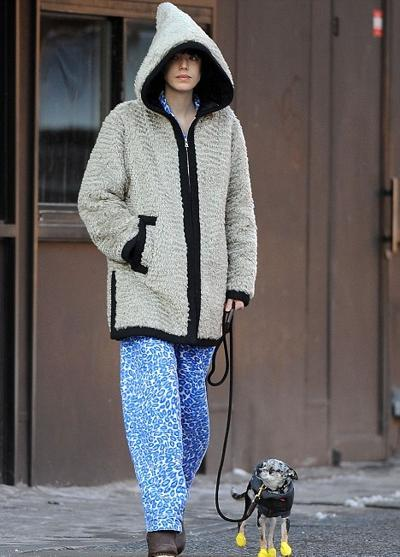person: (78, 3, 257, 556)
